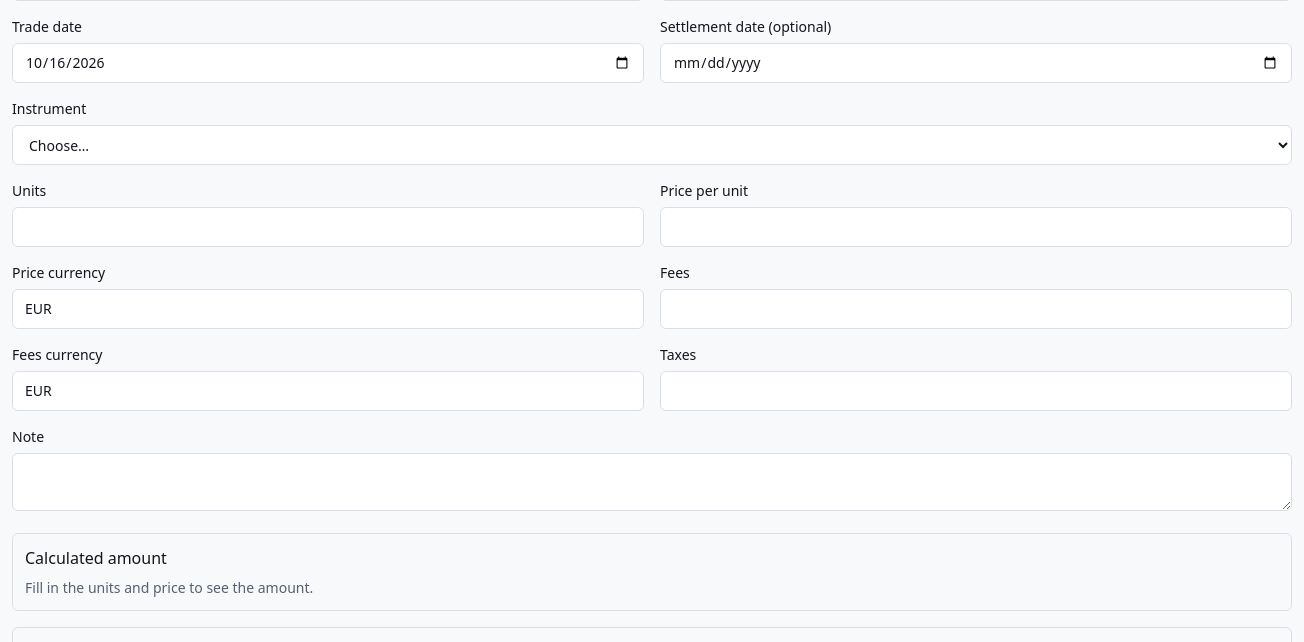
the form › shows the server explanation of an oversell next to the preview
Step 1. Select "Acme Corp (ACME)" in the dropdown labelled "Instrument" → (652, 145), box [12,125,1292,165]
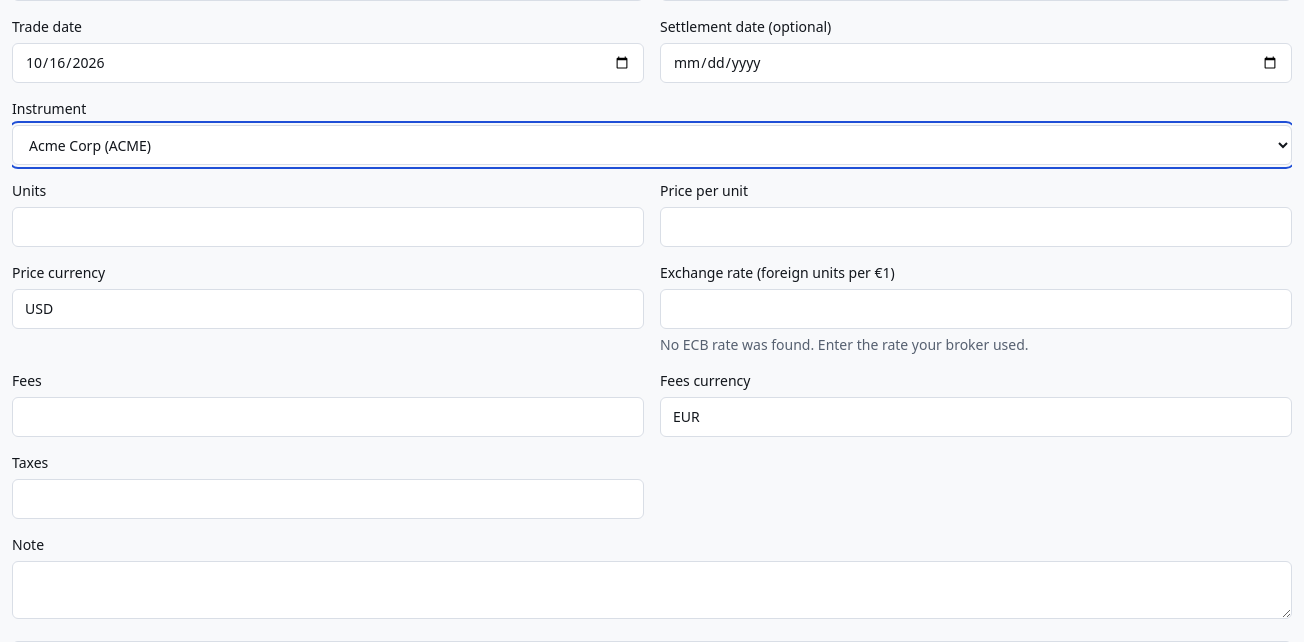
Step 2. Type "10" into the field labelled "Units" → (328, 227), box [12,207,644,247]
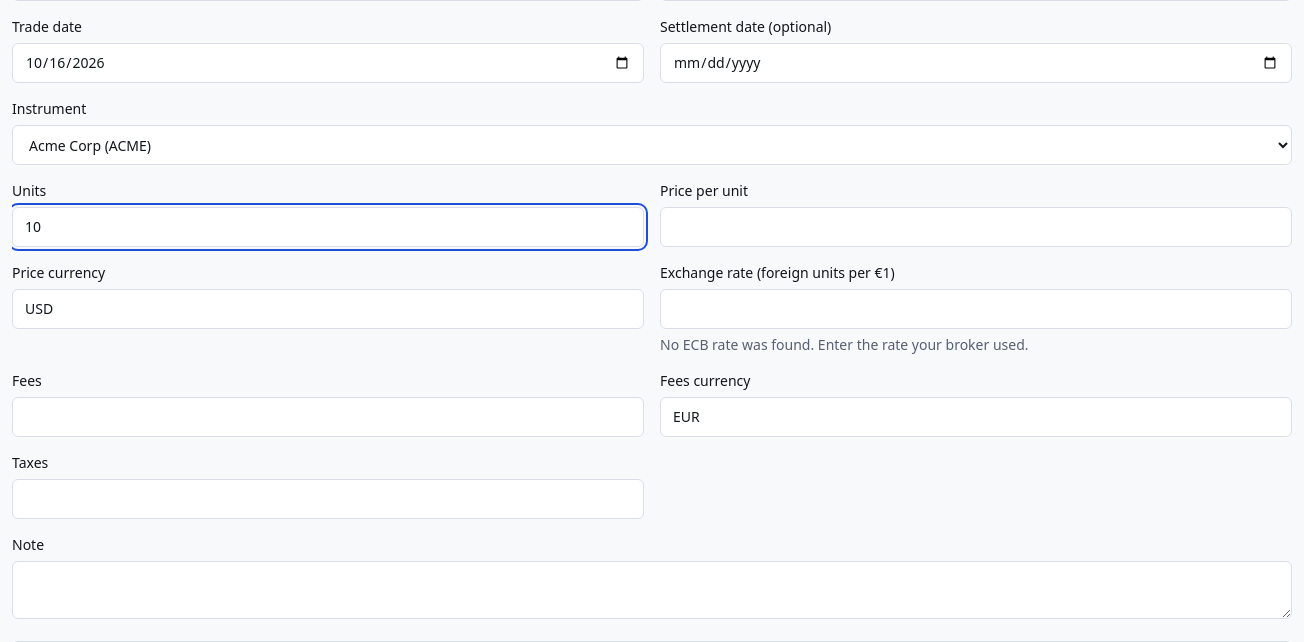
Step 3. Type "120" into the field labelled "Price per unit" → (976, 227), box [660,207,1292,247]
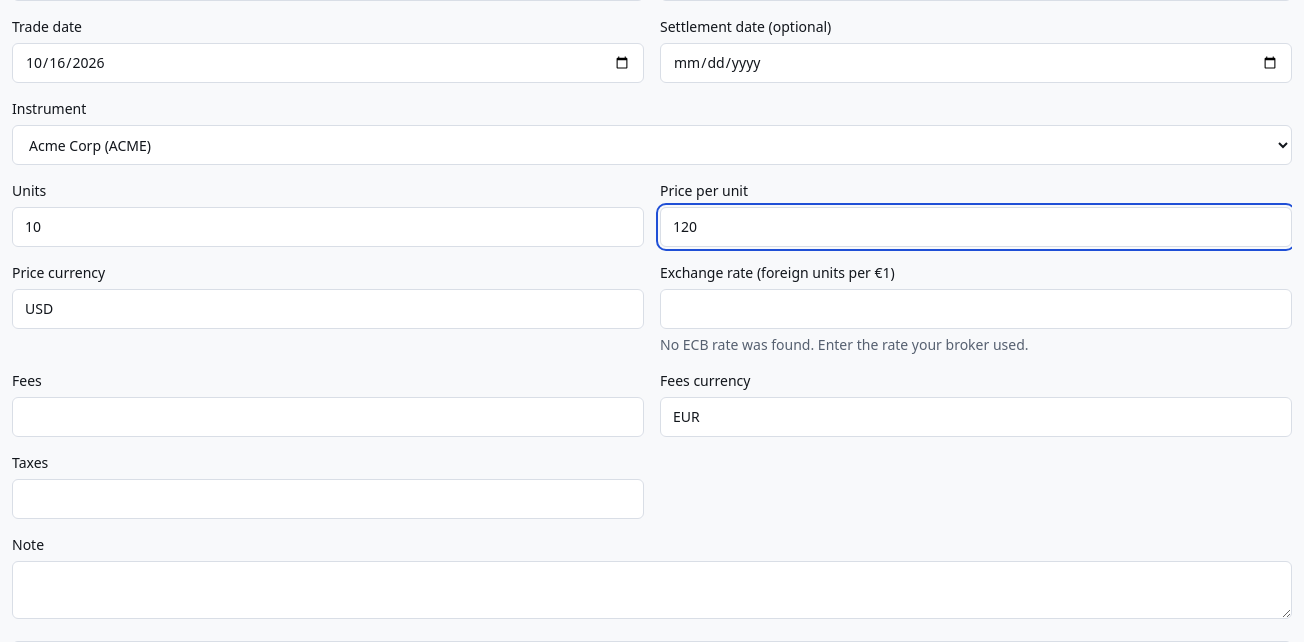
Step 4. Type "1" into the field labelled "Exchange rate (foreign units per €1)" → (976, 309), box [660,289,1292,329]
(page scrolled)
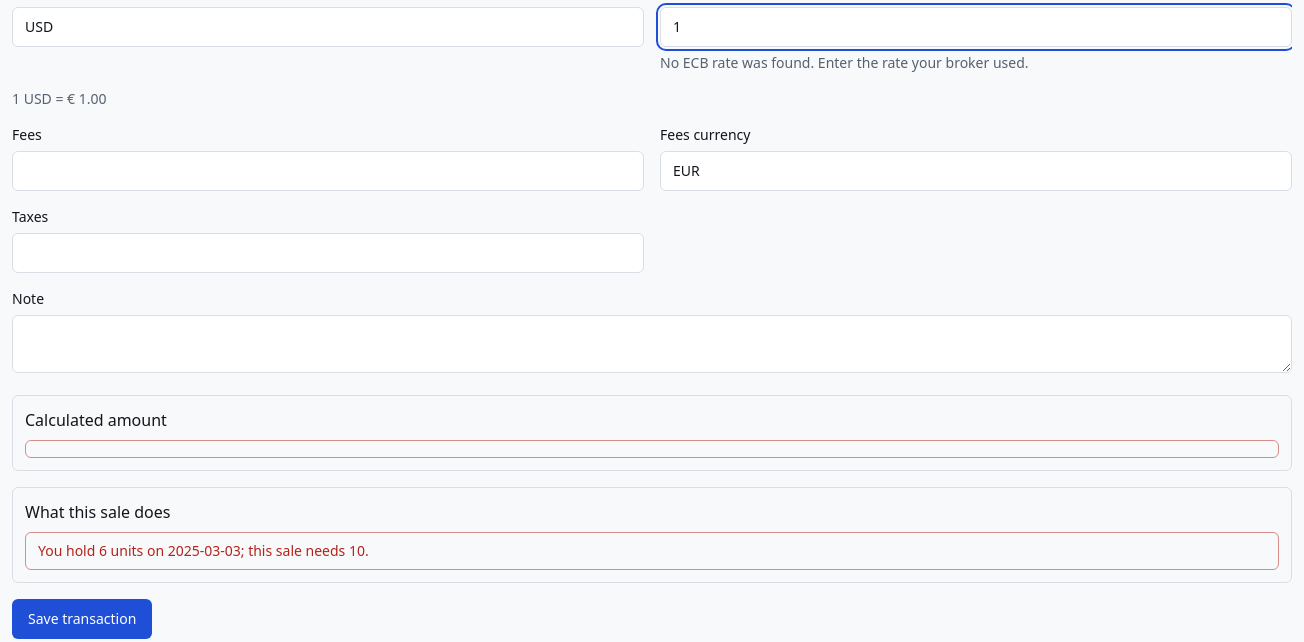
Expected: the text "You hold 6 units on 2025-03-03; this sale needs 10." is shown, [25,532,1279,570]
